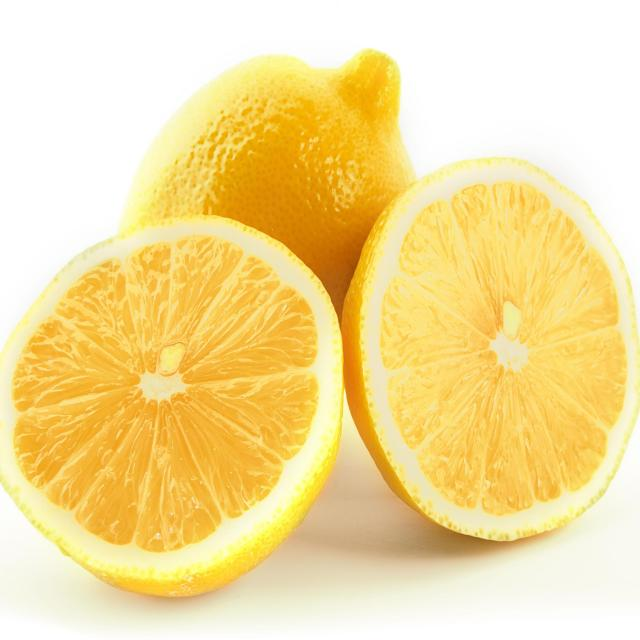lemon: (0, 202, 362, 606), (335, 149, 640, 551)
